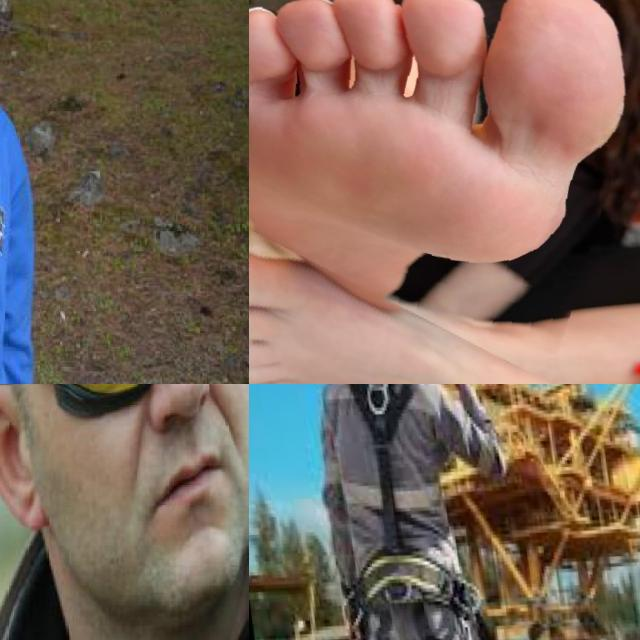Barefoots: (249, 0, 627, 310), (249, 251, 555, 384)
Harness: (348, 384, 415, 550)
No_Ear-Protection: (0, 384, 53, 531)
face_nomask: (53, 384, 249, 539)
person: (0, 0, 64, 384)
